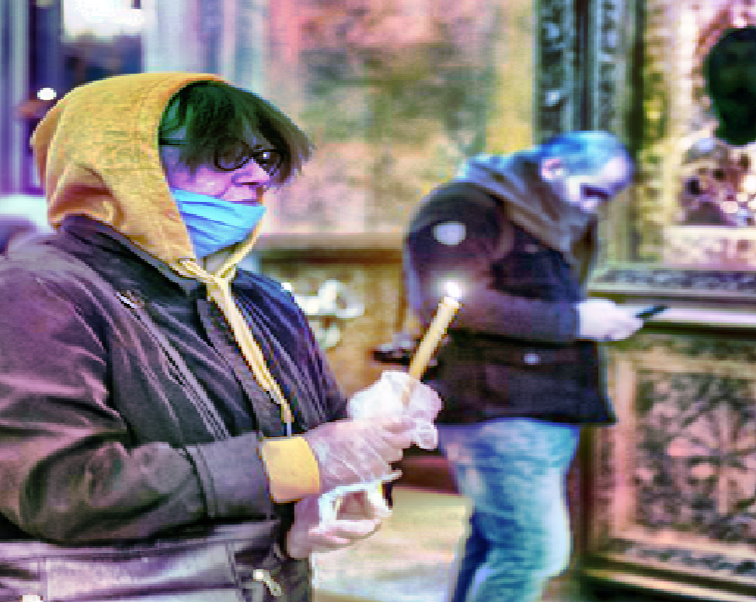mask_weared_incorrect: (38, 72, 288, 257)
